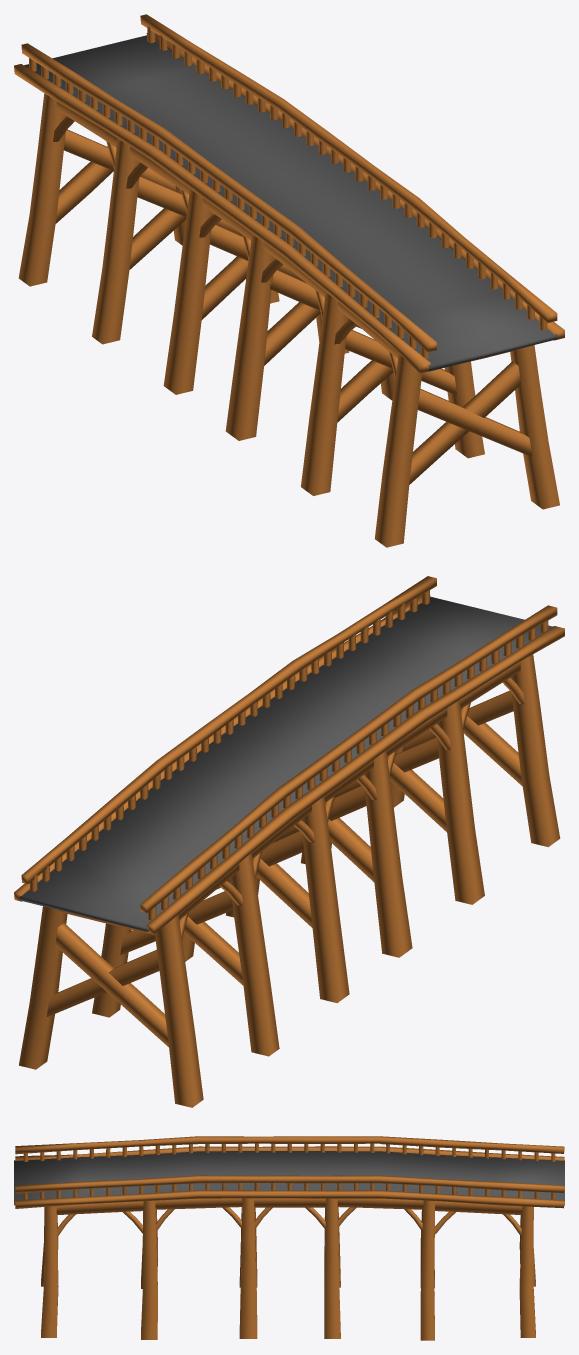
File: Target_Bridge-2.fbx
3 renders of one model, top to bottom at view 1: azimuth 30°, elevation 25°; view 2: azimuth 150°, elevation 25°; view 3: azimuth 270°, elevation 25°, orthographic. The views are drawn at different scales.
Visible parts, largest first — view 1: Bridge_TDG; view 2: Bridge_TDG; view 3: Bridge_TDG.
Part boxes in pixels (bbox=[...]): Bridge_TDG: bbox=[14, 14, 564, 547]; Bridge_TDG: bbox=[14, 576, 564, 1107]; Bridge_TDG: bbox=[14, 1136, 564, 1340].
Bounding box in the file's own units: 841 × 1044 × 3368.
